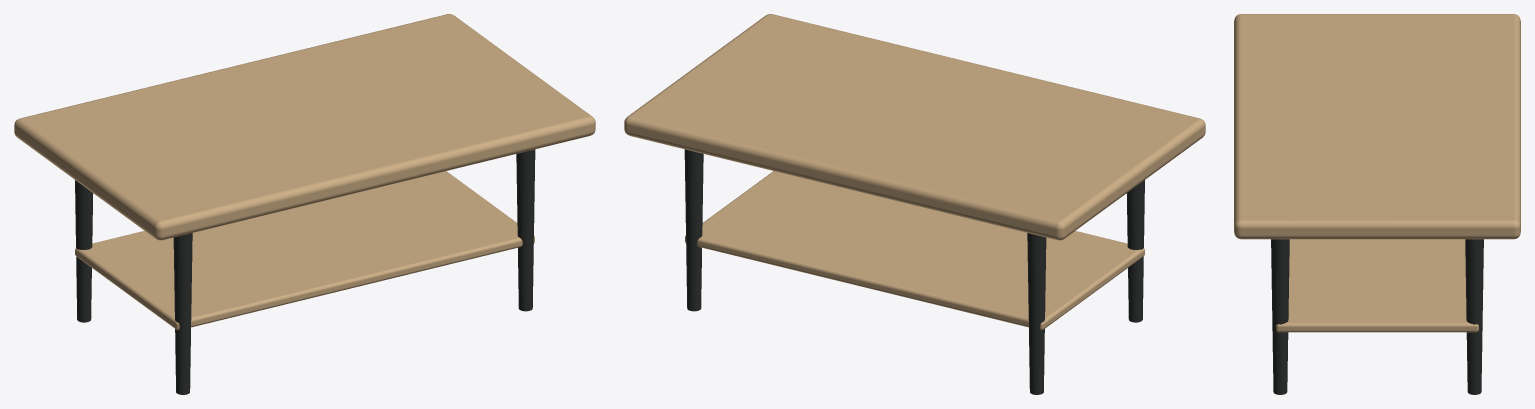
File: coffeeTable.glb
3 renders of one model, left to right at view 1: azimuth 30°, elevation 25°; view 2: azimuth 150°, elevation 25°; view 3: azimuth 270°, elevation 25°, orthographic.
Size of the model in its own units: 1.08 by 0.46 by 0.62.
